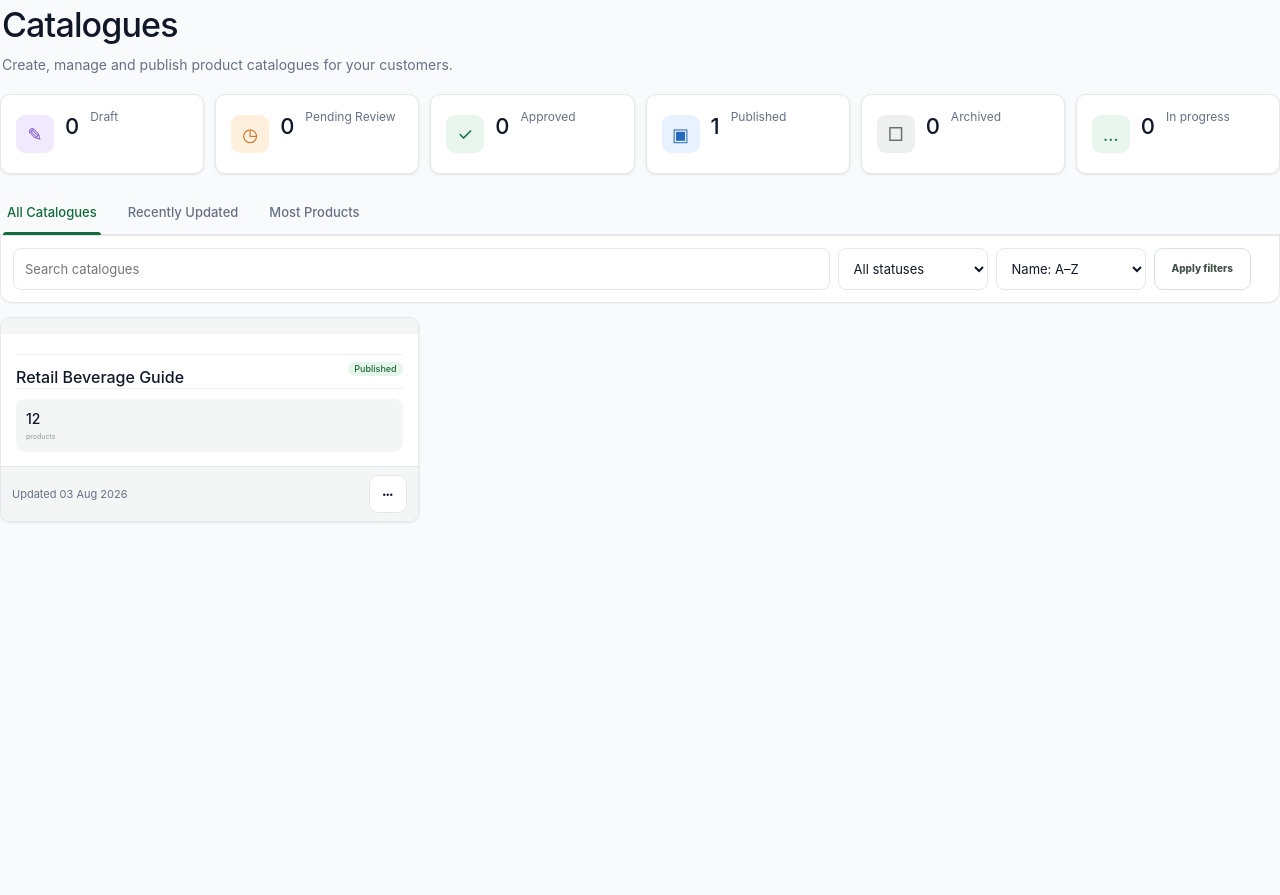
Scenario: CatalogueManagement preview action › deletes the selected catalogue after confirmation
This screenshot has width=1280, height=895.
Click the button named "More catalogue actions".
click(388, 494)  # box [369, 475, 407, 513]
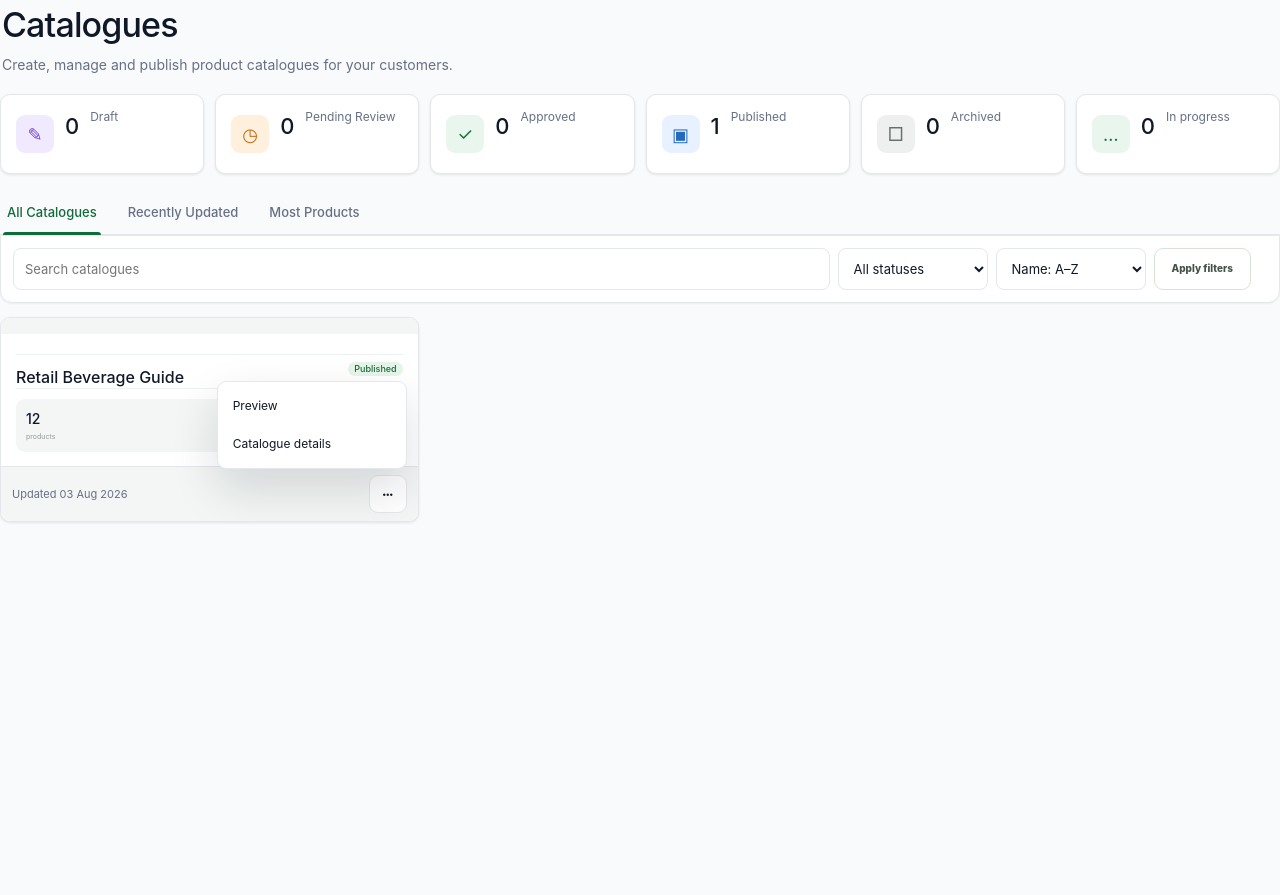
Click the menu item "Catalogue details".
click(312, 444)  # box [223, 425, 401, 463]
(page scrolled)
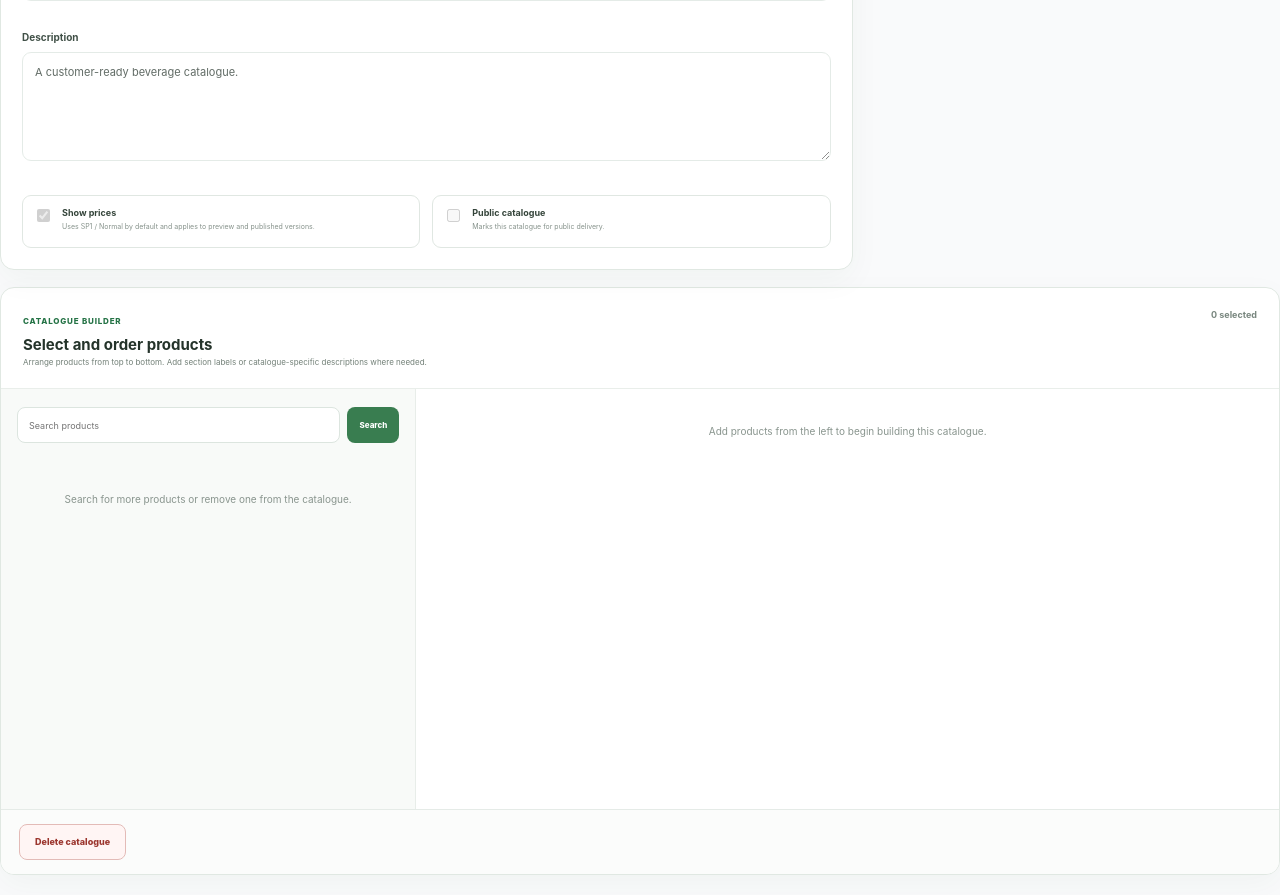
Click the button "Delete catalogue".
click(73, 842)  # box [19, 824, 126, 860]
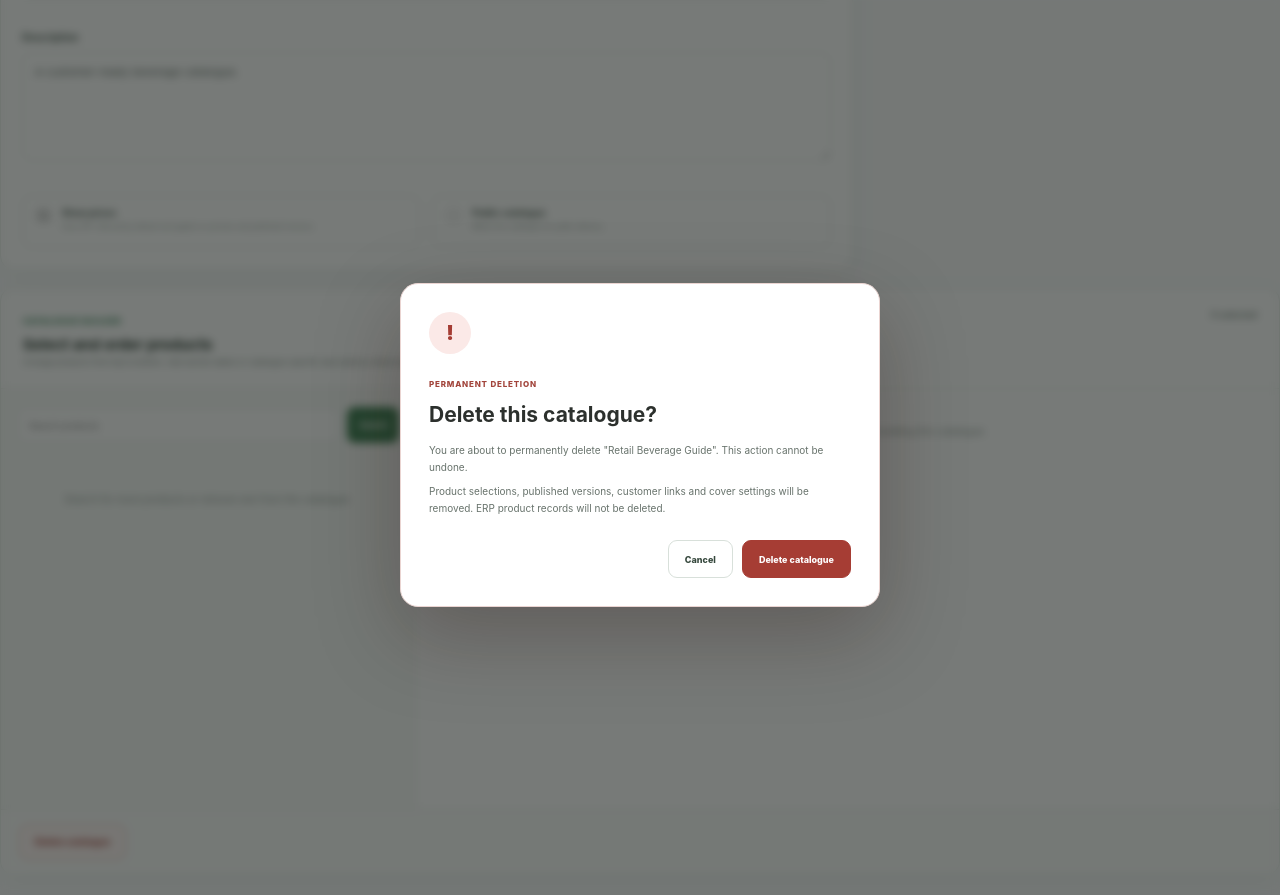
Result: the dialog "Delete this catalogue?" shows "Retail Beverage Guide" at [429, 444, 823, 473]
Click the button "Delete catalogue".
click(796, 559)  # box [742, 540, 851, 578]
(page scrolled)
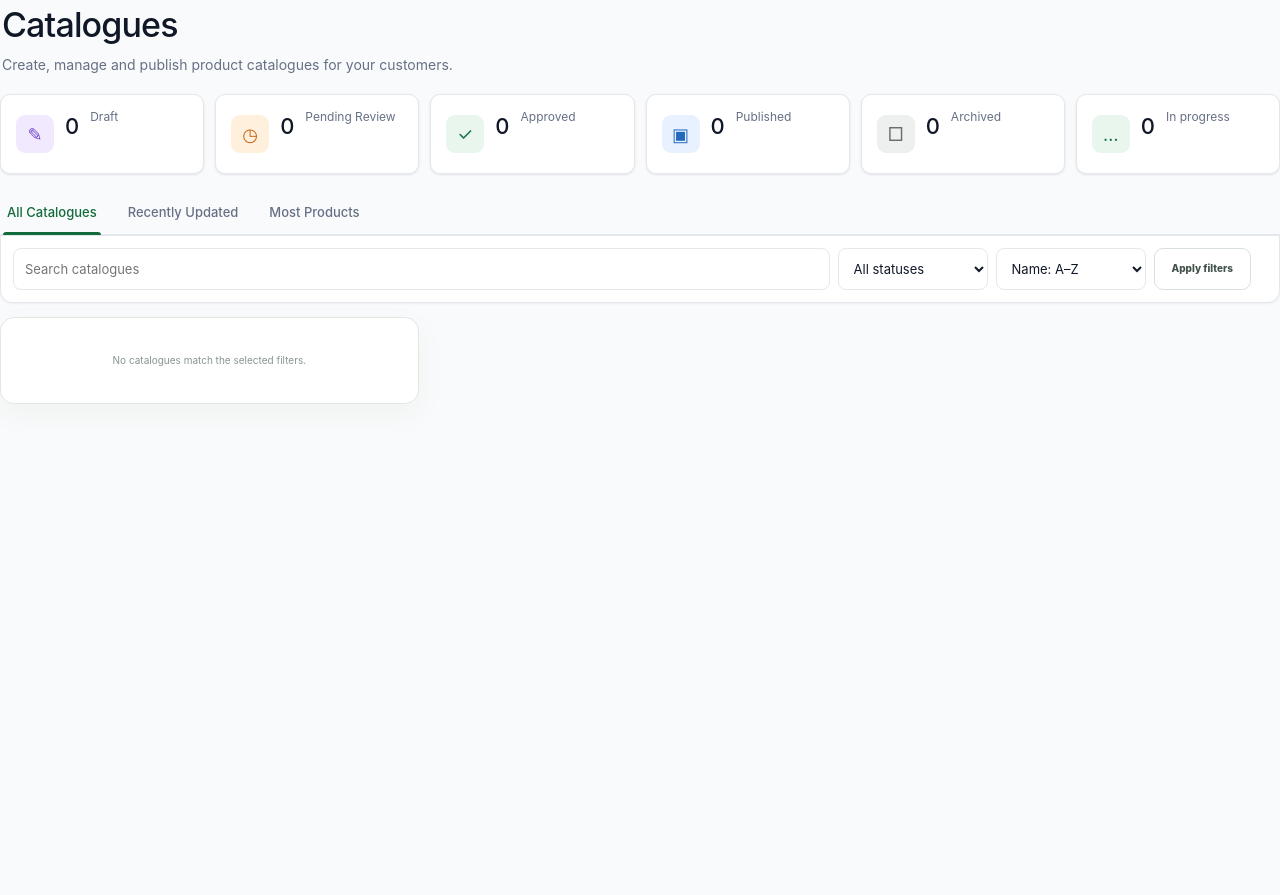
Result: the text "No catalogues match the selected filters." is shown at [0, 317, 419, 404]
